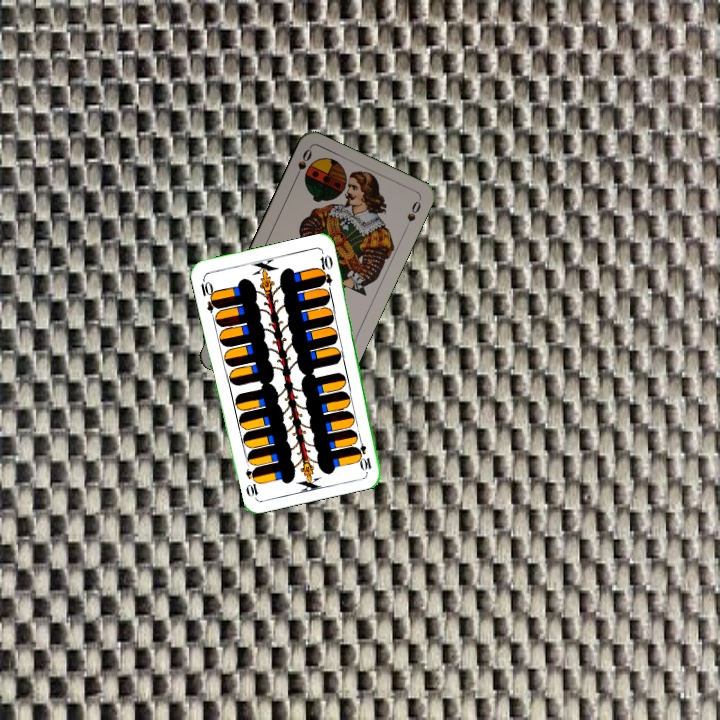E10: (196, 274, 221, 314), (353, 433, 374, 473)
SO: (290, 144, 314, 183)
